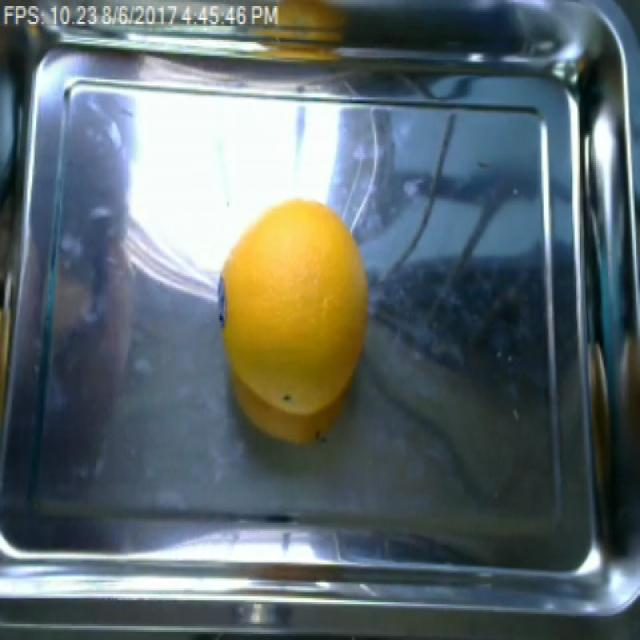Fruit: (218, 191, 374, 447), (268, 0, 355, 36)
